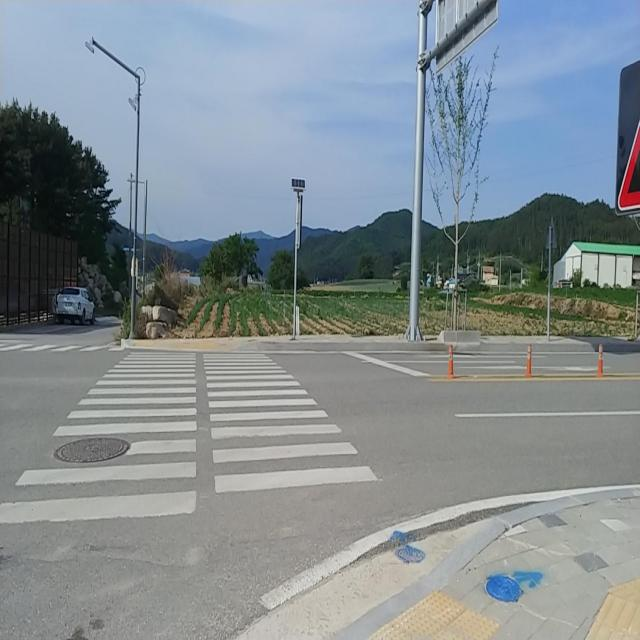횡단보도: (0, 348, 380, 529)
